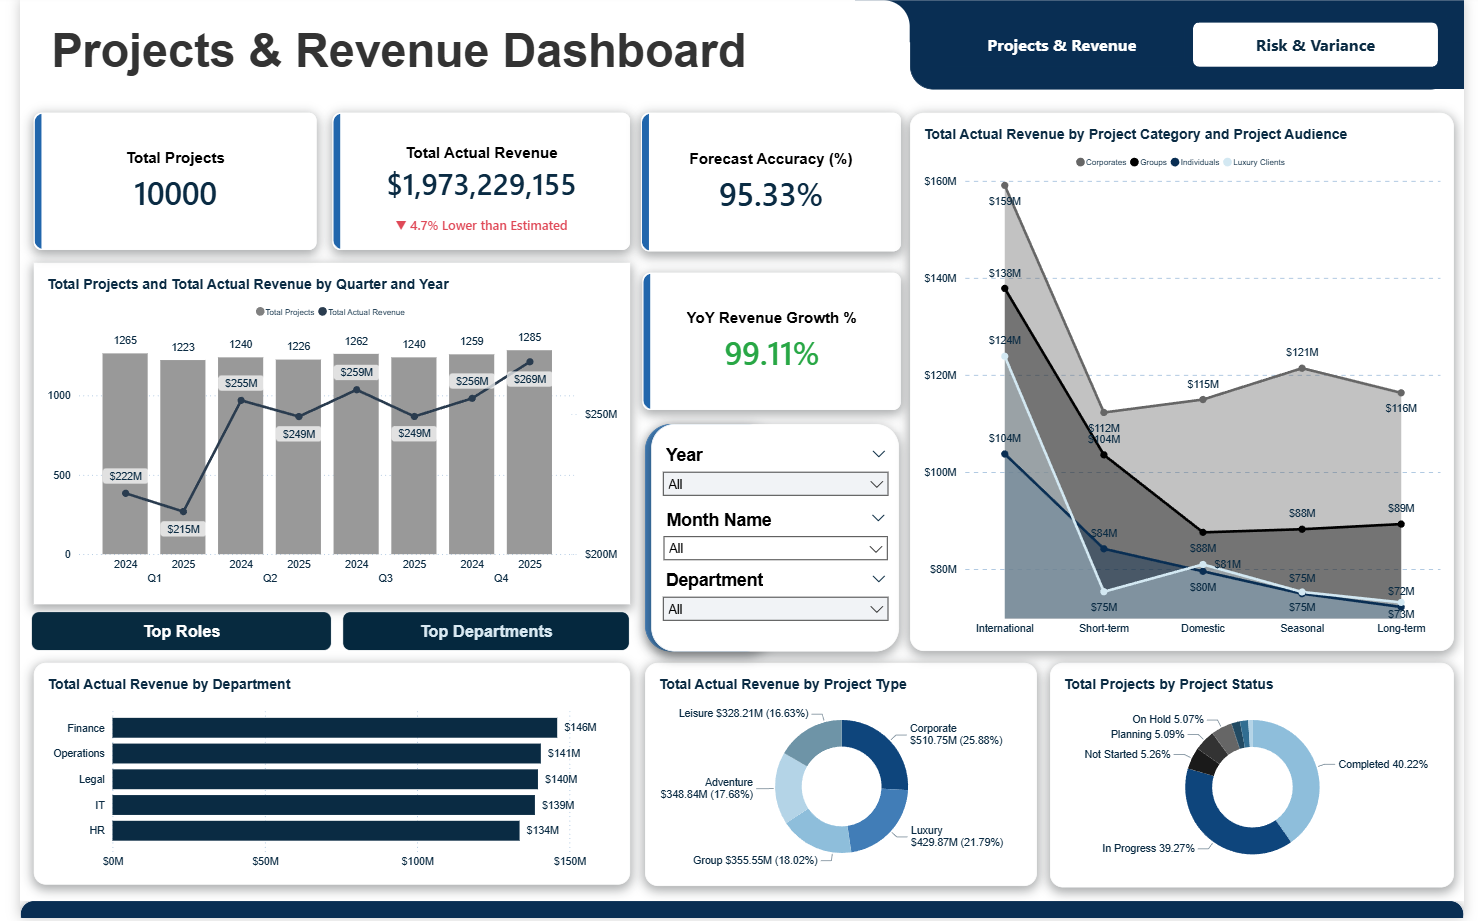

The dashboard page shown, as its layout file describes it:
{"tool":"powerbi","page":{"name":"Projects & Revenue","canvas":[1650,1050],"ordinal":0},"visuals":[{"type":"shape","box":[1095,3.3,555,100],"z":0},{"type":"shape","box":[954,2,696,48],"z":1000},{"type":"shape","box":[1016.7,11.7,621.7,92],"z":2000},{"type":"shape","box":[0,0,416.7,65],"z":3000},{"type":"shape","box":[0,1030,1650,20],"z":4000},{"type":"shape","box":[0,115,1650,915],"z":5000},{"type":"cardVisual","fields":{"Data":["_Key Measures.Total Actual Revenue"]},"box":[356.7,130,340,156.7],"z":6000},{"type":"cardVisual","fields":{"Data":["_Key Measures.Forecast Accuracy (%)"]},"box":[710,130,296.7,158.3],"z":7000},{"type":"cardVisual","fields":{"Data":["_Key Measures.YoY Revenue Growth %"]},"box":[711.7,313.3,295,156.7],"z":8000},{"type":"lineClusteredColumnComboChart","fields":{"Category":["DateTable.Quarter","DateTable.Year"],"Y":["_Key Measures.Total Projects"],"Y2":["_Key Measures.Total Actual Revenue"]},"box":[15,301.7,681.7,390],"z":9000},{"type":"donutChart","fields":{"Category":["travel_agency_projects.Project Type"],"Y":["_Key Measures.Total Actual Revenue"]},"box":[715,758.3,448.3,255],"z":10000},{"type":"shape","box":[0,2,1017,100],"z":11000},{"type":"donutChart","fields":{"Category":["travel_agency_projects.Project Status"],"Y":["_Key Measures.Total Projects"]},"box":[1176.7,758.3,461.7,256.7],"z":12000},{"type":"shape","box":[715,485,145,260],"z":13000},{"type":"shape","box":[721.7,485,283.3,260],"z":14000},{"type":"slicer","fields":{"Values":["DateTable.Year"]},"box":[730,509.5,267.1,67.1],"z":15000},{"type":"slicer","fields":{"Values":["DateTable.Month Name"]},"box":[730,582.3,267.1,62.9],"z":16000},{"type":"slicer","fields":{"Values":["travel_agency_projects.Department"]},"box":[730,652.3,267.1,75.7],"z":17000},{"type":"areaChart","fields":{"Category":["travel_agency_projects.Project Category"],"Series":["travel_agency_projects.Project Audience"],"Y":["_Key Measures.Total Actual Revenue"]},"box":[1016.7,130,621.7,615],"z":18000},{"type":"cardVisual","fields":{"Data":["_Key Measures.Total Projects"]},"box":[15,130,323.3,156.7],"z":19000},{"type":"barChart","fields":{"Category":["travel_agency_projects.Department"],"Y":["_Key Measures.Total Actual Revenue"]},"box":[15,758.3,681.7,253.3],"z":20000},{"type":"actionButton","box":[368.3,700,328.3,45],"z":22000},{"type":"actionButton","box":[13.3,700,343.3,45],"z":23000},{"type":"textbox","box":[36,28,824,68],"z":24000},{"type":"pageNavigator","box":[1035,11.7,600,81.7],"z":25000}]}

Visuals, with their boxes in screenshot pixels (x1, y1, x2, y2), scaled from the page's 1650x1050 canvas onto the 1478x921 screenshot:
shape: [left=981, top=3, right=1477, bottom=91]
shape: [left=855, top=2, right=1477, bottom=44]
shape: [left=911, top=10, right=1468, bottom=91]
shape: [left=0, top=0, right=373, bottom=57]
shape: [left=0, top=903, right=1477, bottom=920]
shape: [left=0, top=101, right=1477, bottom=903]
cardVisual - _Key Measures.Total Actual Revenue: [left=320, top=114, right=624, bottom=251]
cardVisual - _Key Measures.Forecast Accuracy (%): [left=636, top=114, right=902, bottom=253]
cardVisual - _Key Measures.YoY Revenue Growth %: [left=638, top=275, right=902, bottom=412]
lineClusteredColumnComboChart - DateTable.Quarter x DateTable.Year: [left=13, top=265, right=624, bottom=607]
donutChart - travel_agency_projects.Project Type x _Key Measures.Total Actual Revenue: [left=640, top=665, right=1042, bottom=889]
shape: [left=0, top=2, right=911, bottom=89]
donutChart - travel_agency_projects.Project Status x _Key Measures.Total Projects: [left=1054, top=665, right=1468, bottom=890]
shape: [left=640, top=425, right=770, bottom=653]
shape: [left=646, top=425, right=900, bottom=653]
slicer - DateTable.Year: [left=654, top=447, right=893, bottom=506]
slicer - DateTable.Month Name: [left=654, top=511, right=893, bottom=566]
slicer - travel_agency_projects.Department: [left=654, top=572, right=893, bottom=639]
areaChart - travel_agency_projects.Project Category x travel_agency_projects.Project Audience: [left=911, top=114, right=1468, bottom=653]
cardVisual - _Key Measures.Total Projects: [left=13, top=114, right=303, bottom=251]
barChart - travel_agency_projects.Department x _Key Measures.Total Actual Revenue: [left=13, top=665, right=624, bottom=887]
actionButton: [left=330, top=614, right=624, bottom=653]
actionButton: [left=12, top=614, right=319, bottom=653]
textbox: [left=32, top=25, right=770, bottom=84]
pageNavigator: [left=927, top=10, right=1465, bottom=82]
